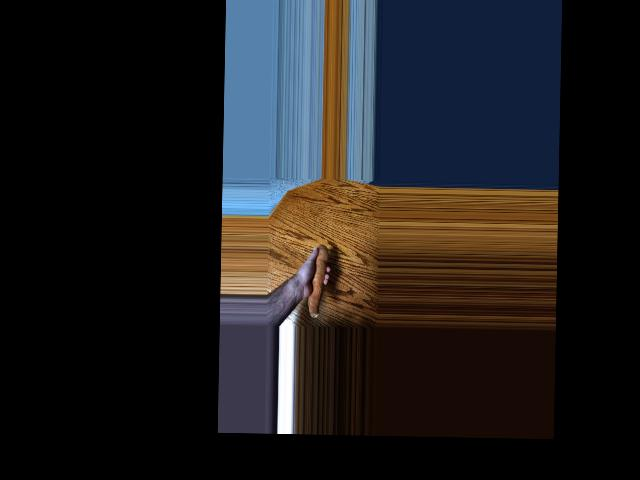sweet_potato: (305, 245, 331, 317)
